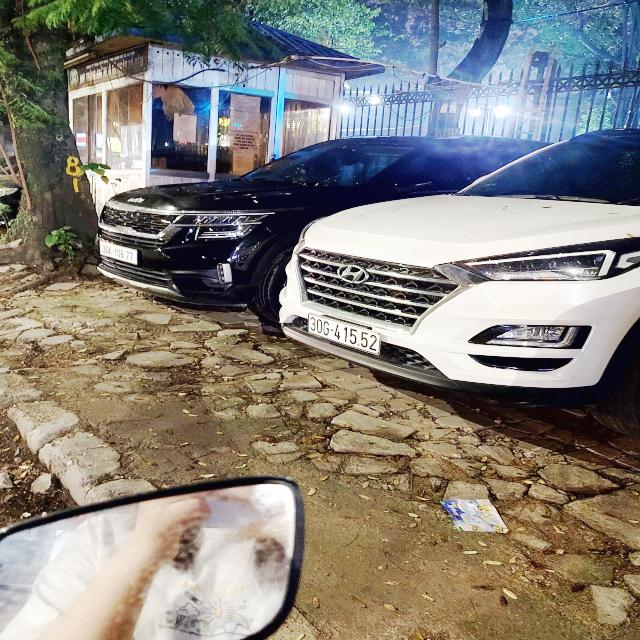license_plate: (307, 312, 384, 356)
